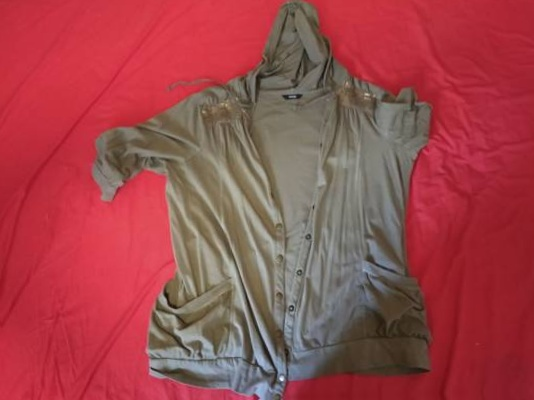Hoodie: (60, 0, 455, 391)
